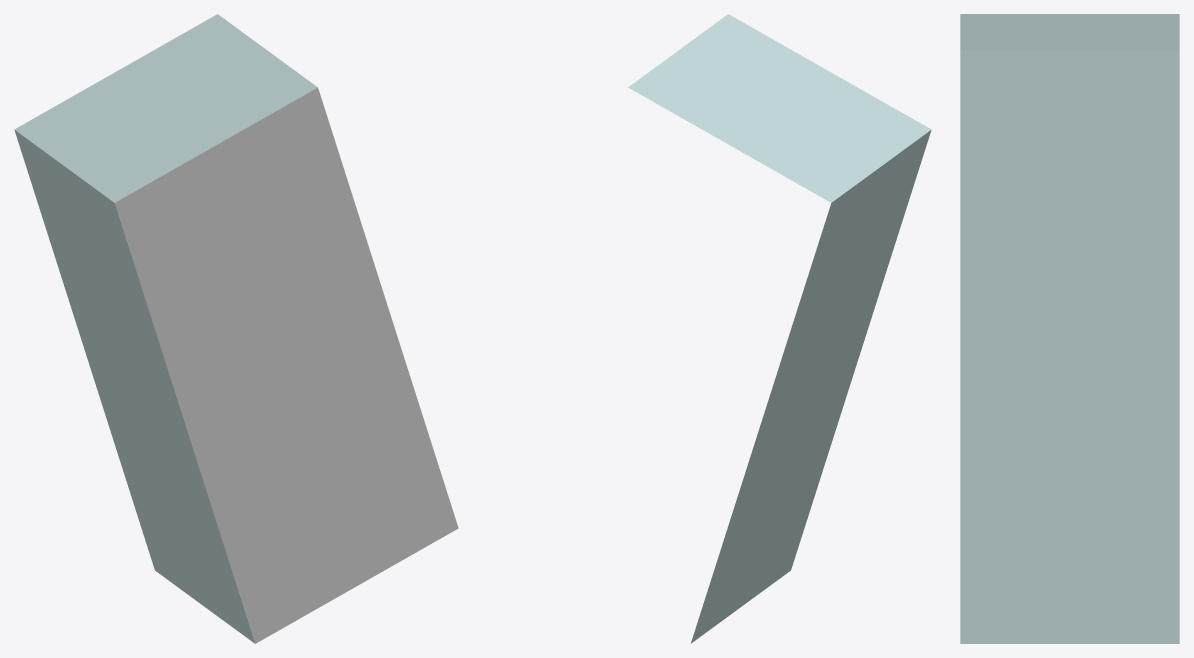
3 renders of one model, left to right at view 1: azimuth 30°, elevation 25°; view 2: azimuth 150°, elevation 25°; view 3: azimuth 270°, elevation 25°, orthographic. The views are drawn at different scales.
Parts seen in each view (by area): view 1: 0_1_2_1_1_0_0; view 2: 0_1_2_1_1_0_0; view 3: 0_1_2_1_1_0_0.
Part boxes in pixels (box(x1,y1,x2,y2)): 0_1_2_1_1_0_0: box(14, 14, 458, 643); 0_1_2_1_1_0_0: box(628, 14, 931, 643); 0_1_2_1_1_0_0: box(960, 14, 1179, 643).
Bounding box in the file's own units: 5.94 × 8.92 × 3.
